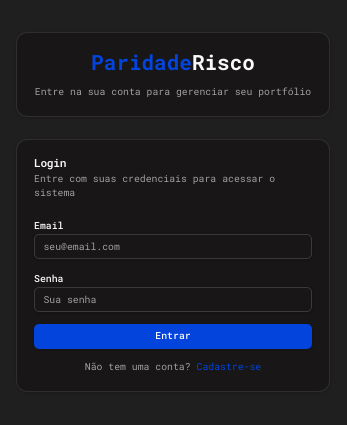
it: LoginPage › shows validation errors for empty fields
Click the button "Entrar" at coordinates (173, 336), box [34,324,312,349]
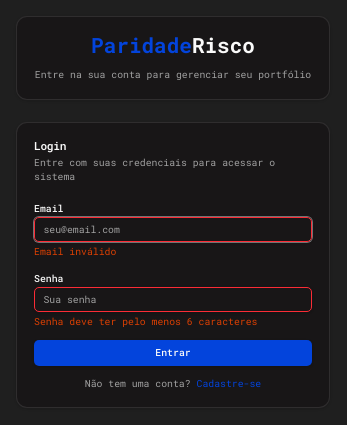
expect the text "Email inválido" is shown: met, box [34,245,116,258]
expect the text "Senha deve ter pelo menos 6 caracteres" is shown: met, box [34,315,257,328]
